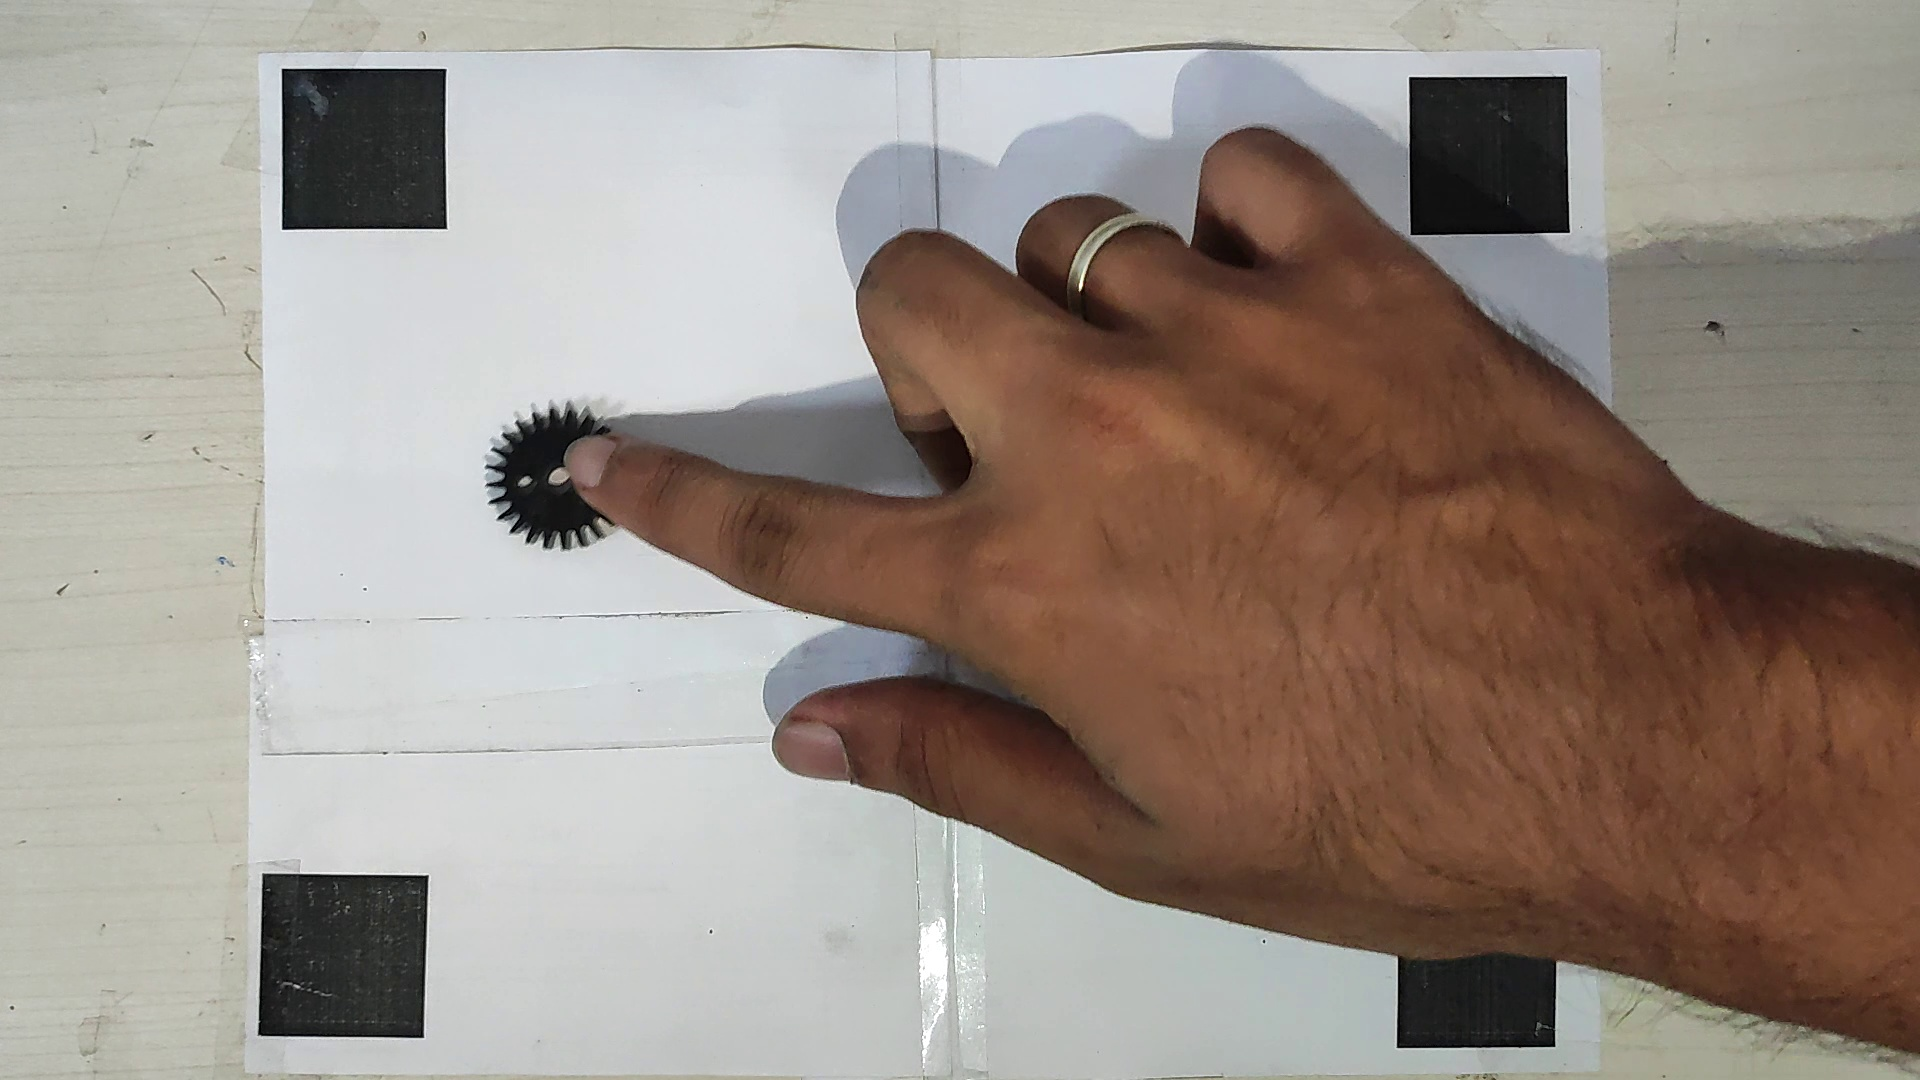Gear: (483, 404, 634, 554)
